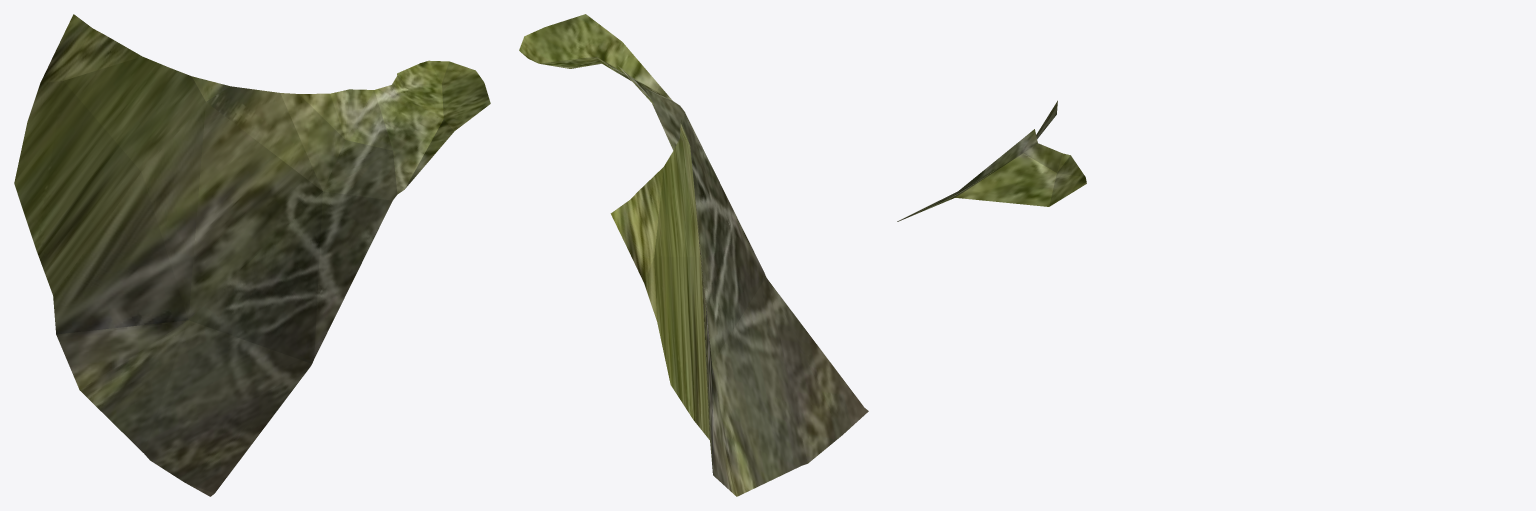
3 renders of one model, left to right at view 1: azimuth 30°, elevation 25°; view 2: azimuth 150°, elevation 25°; view 3: azimuth 270°, elevation 25°, orthographic. The views are drawn at different scales.
Size of the model in its own units: 2.63 by 2.76 by 2.95.
Materials: 3 (3 with a texture image).
